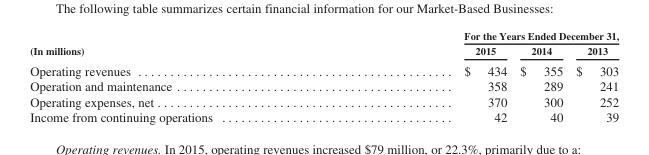table: (29, 29, 618, 124)
table column: (29, 29, 337, 124), (337, 29, 512, 124), (512, 29, 568, 124), (568, 29, 618, 124)
table column header: (29, 29, 618, 59)
table row: (29, 59, 618, 78), (29, 42, 618, 59), (29, 93, 618, 109), (29, 78, 618, 93), (29, 109, 618, 124), (29, 29, 618, 42)
table spanning cell: (29, 29, 337, 59), (337, 29, 618, 42)
